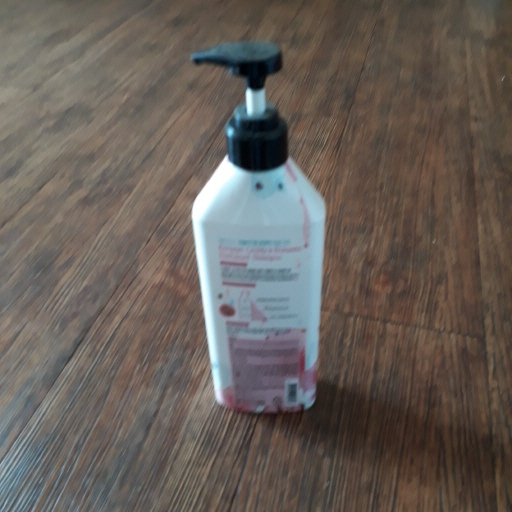Plastic_3: (184, 40, 335, 415)
